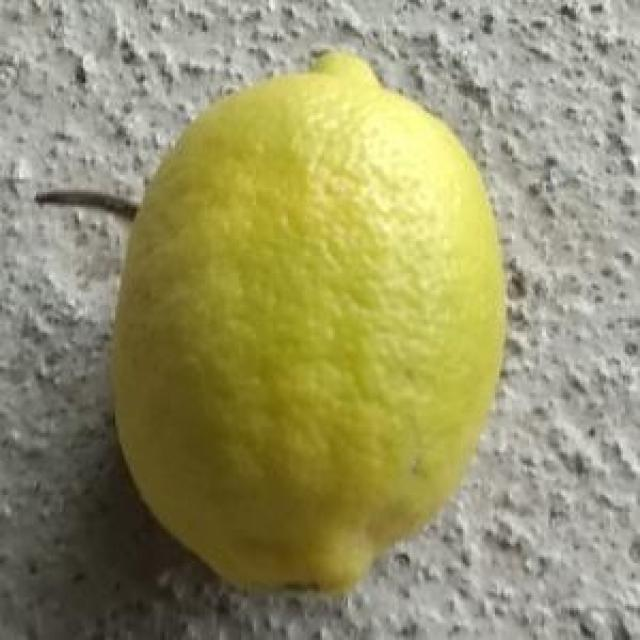lemon: (109, 49, 509, 606)
